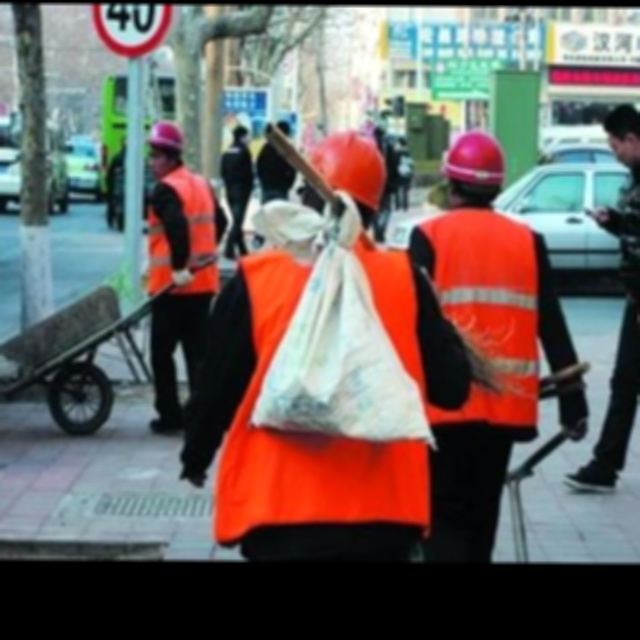Con_Chaleco: (416, 209, 540, 427)
